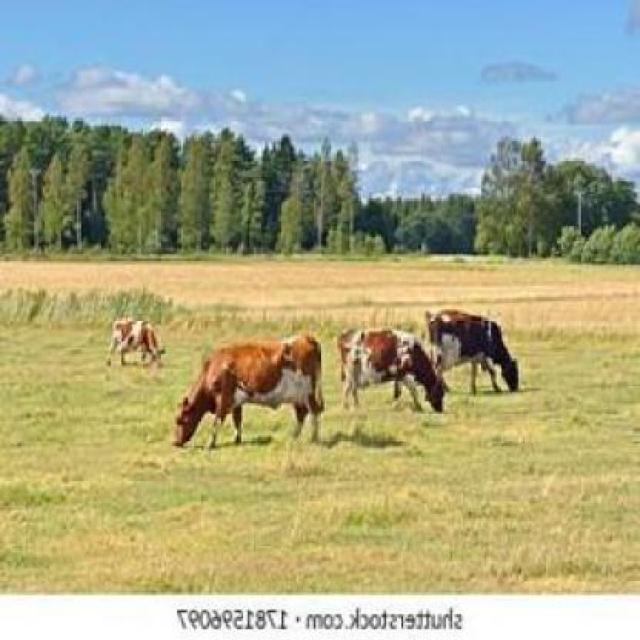Cow: (168, 331, 330, 454), (335, 324, 451, 418), (423, 306, 522, 396), (103, 316, 166, 370)
